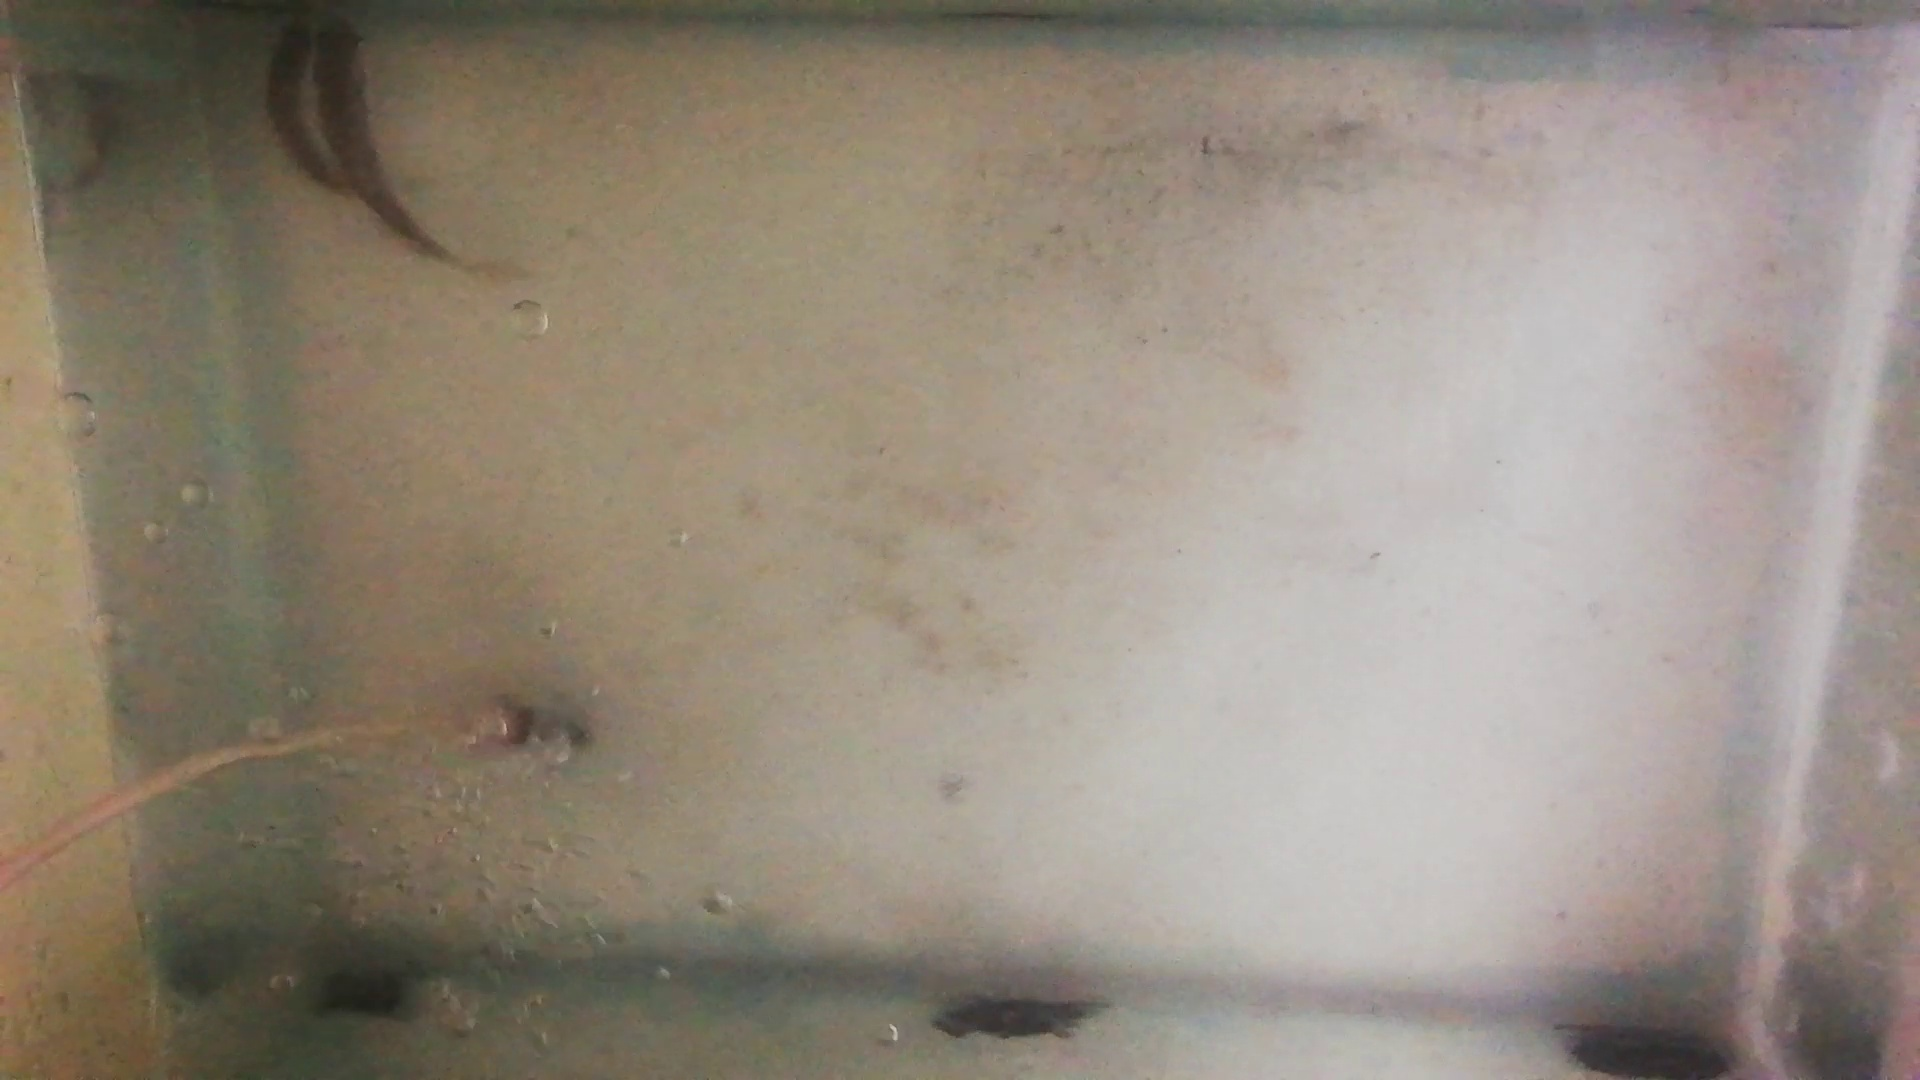fish: (314, 11, 443, 262), (268, 13, 330, 195)
